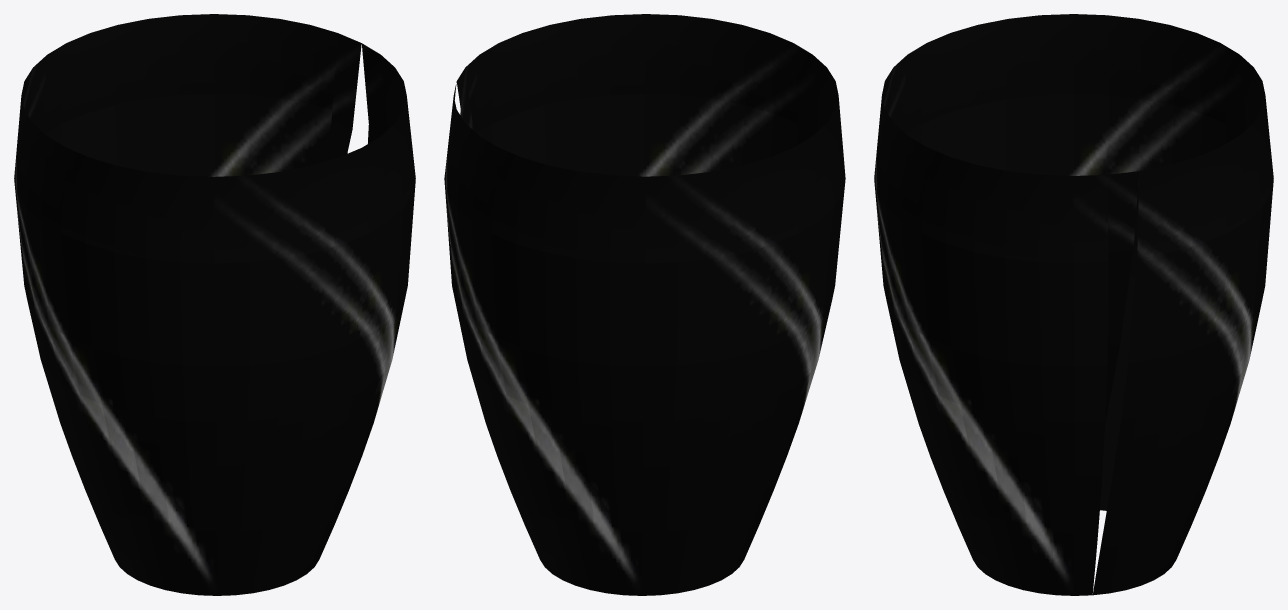
The picture shows the model from 3 angles, left to right: view 1: azimuth 30°, elevation 25°; view 2: azimuth 150°, elevation 25°; view 3: azimuth 270°, elevation 25°; orthographic projection.
Parts seen in each view (by area): view 1: XF_06; view 2: XF_06; view 3: XF_06.
Boxes of the visible parts, left/top/right/bottom form: XF_06: left=14, top=14, right=415, bottom=595; XF_06: left=444, top=14, right=845, bottom=595; XF_06: left=874, top=14, right=1273, bottom=595.
Bounding box in the file's own units: 3.45 × 4.34 × 3.45.
1 material, 1 textured.
